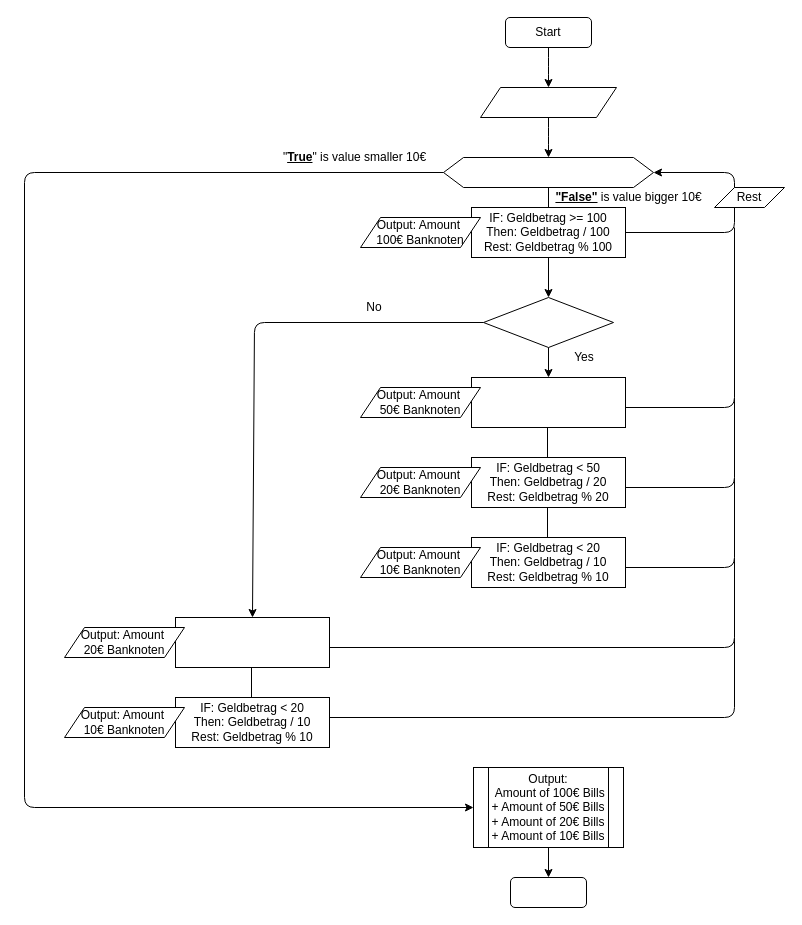
The diagram is 802 pixels wide and 925 high, and some of its shapes have lost their labels. Each missing label, with the centre of its shape:
End: point 548,892
If €50 available: point 548,322
IF: Geldbetrag < 100 Then: Geldbetrag / 20 Rest: Geldbetrag % 20: point 252,642
IF: Geldbetrag < 100 Then: Geldbetrag / 50 Rest: Geldbetrag % 50: point 548,402
Input Geldbetrag: point 548,102
while Geldbetrag >= 10: point 548,172
